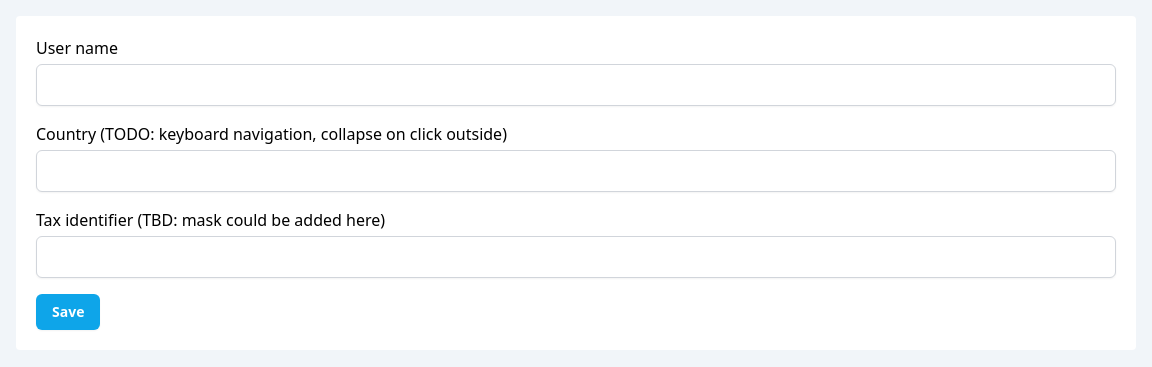
Test: Save user form › saves data.
The width and height of the screenshot is (1152, 367).
Type "Denis" into the field with test id "username".
click(576, 85); type("Denis")  # box [36,64,1116,106]
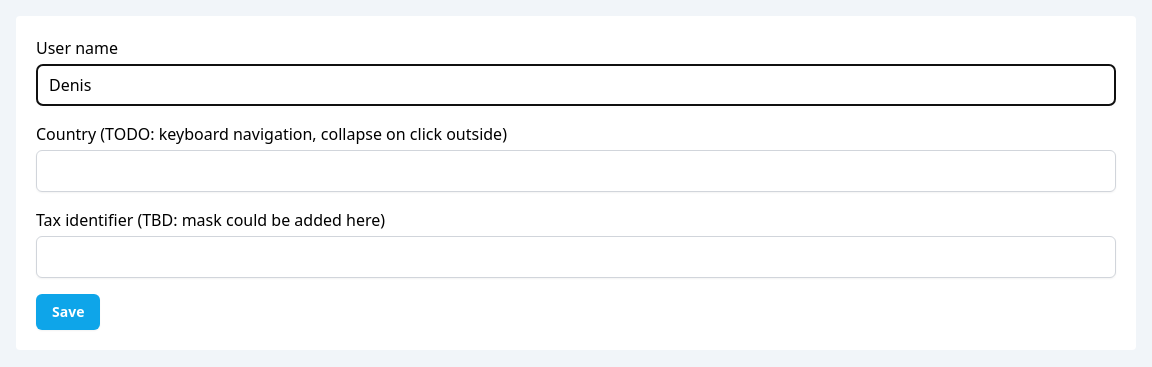
Type "Belarus" into the field with test id "country".
click(576, 171); type("Belarus")  # box [36,150,1116,192]
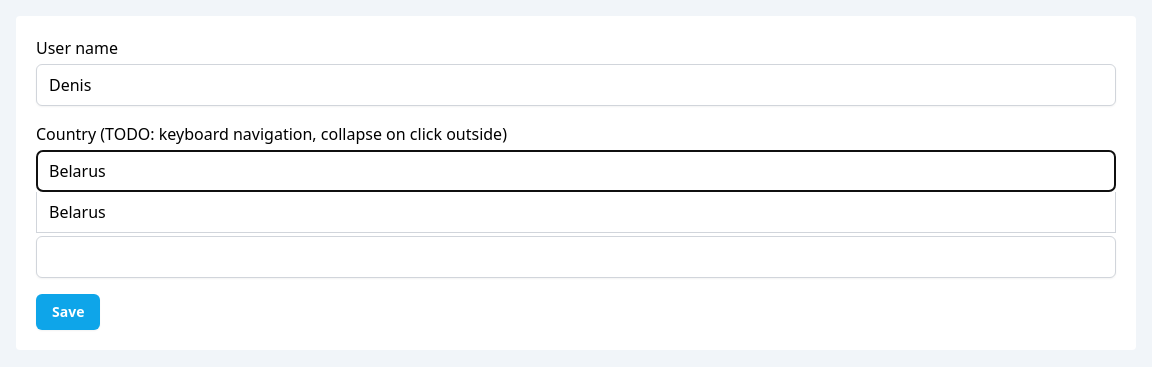
Click the text "Belarus".
click(576, 213)  # box [37,192,1115,233]
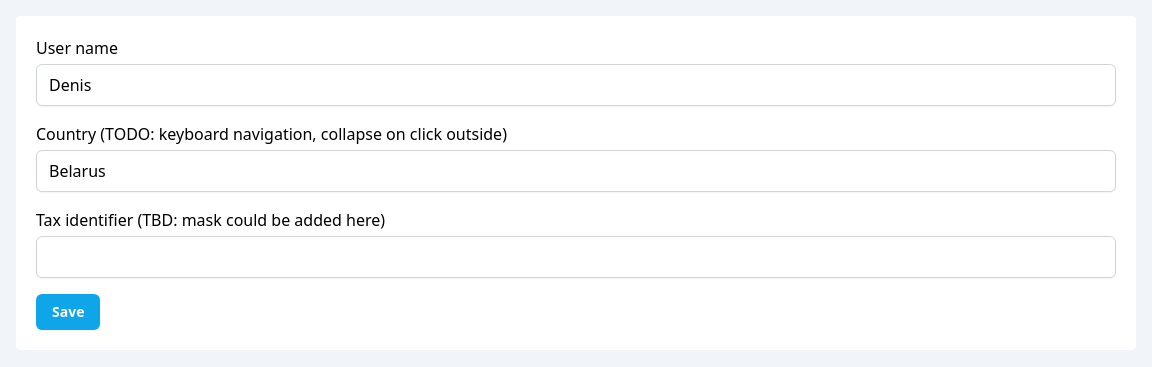
Type "12345" into the field with test id "tax".
click(576, 257); type("12345")  # box [36,236,1116,278]
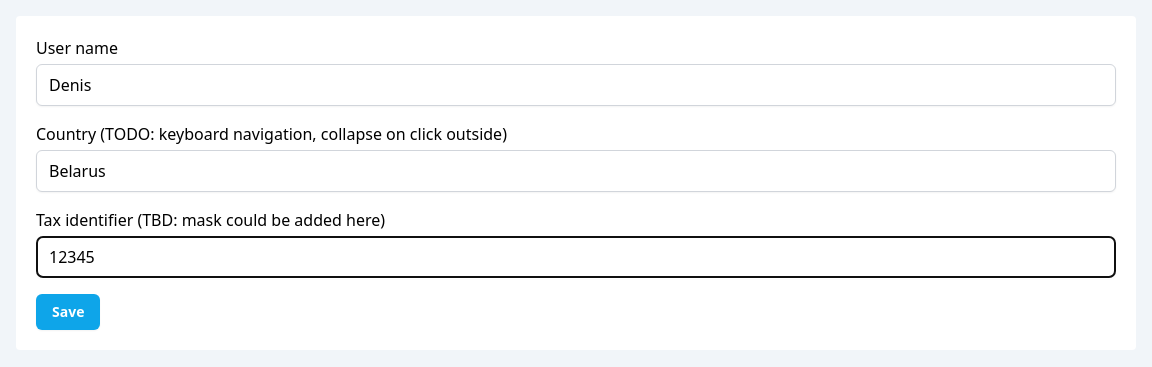
Click the button with test id "save-btn".
click(68, 312)  # box [36,294,100,330]
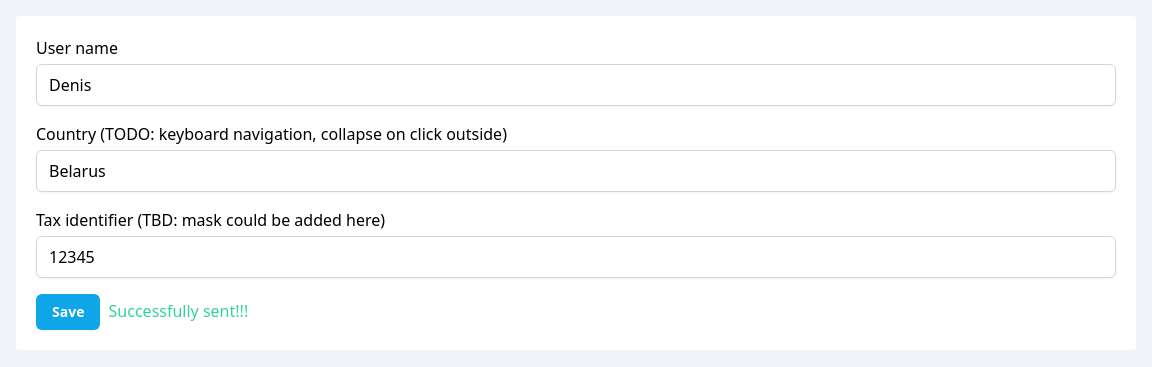
Expected: the text "Successfully sent!!!" is shown, [104,300,248,322]
